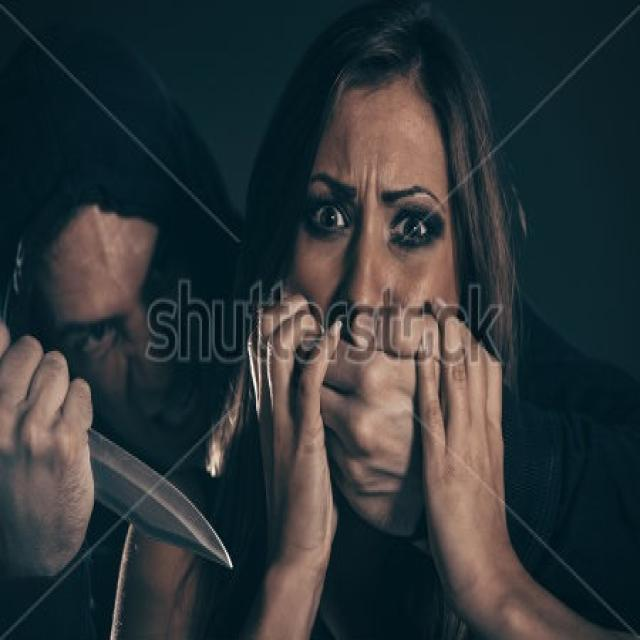knife: (92, 419, 240, 581)
